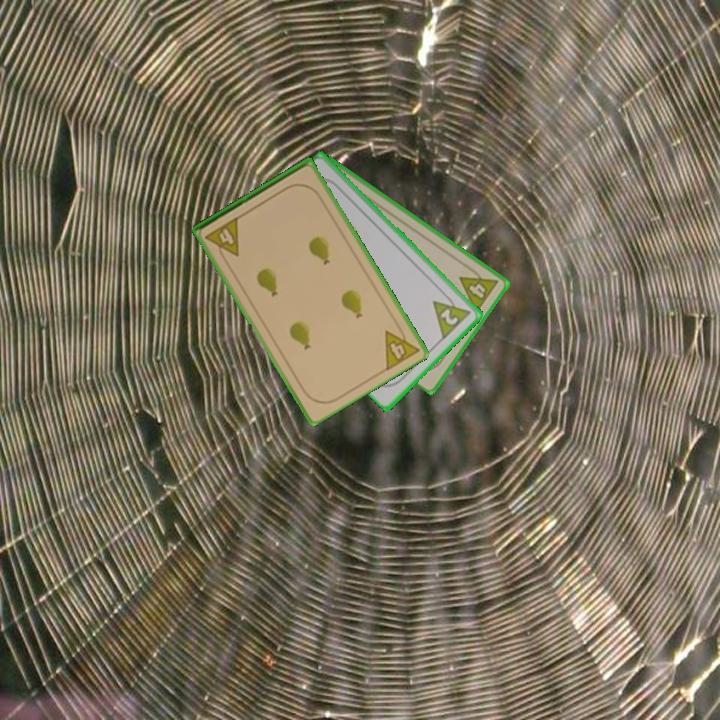2p: (429, 288, 474, 342)
4p: (456, 262, 501, 316), (381, 318, 422, 373), (202, 213, 243, 265)
